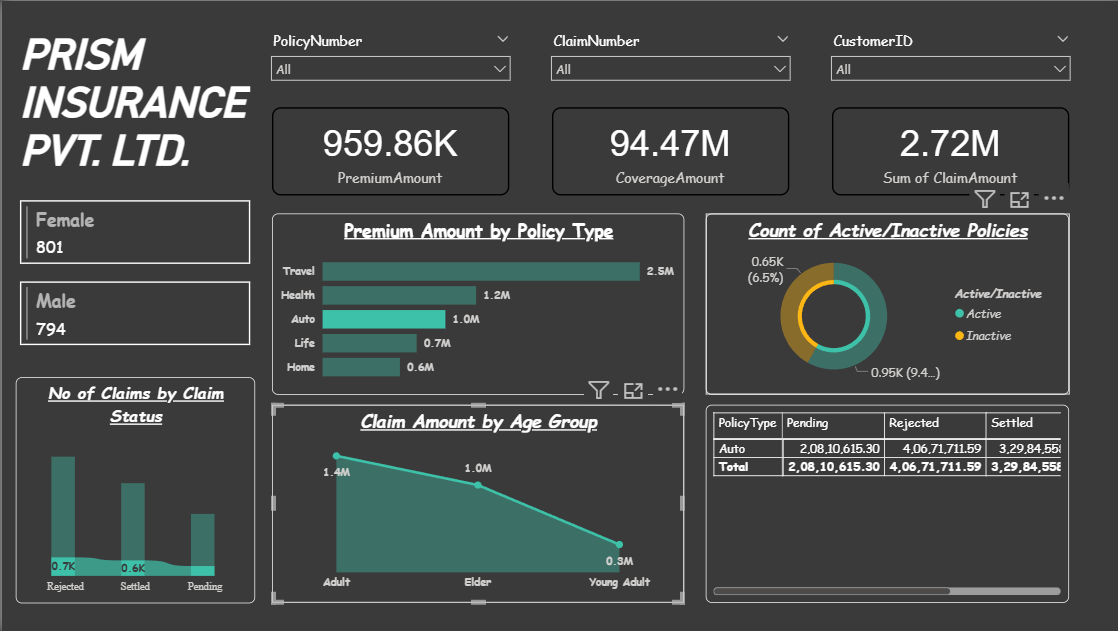

This screenshot's page, from the dashboard's own definition file:
{"tool":"powerbi","page":{"name":"Page 1","canvas":[1280,720],"ordinal":0},"visuals":[{"type":"slicer","fields":{"Values":["InsuranceData.PolicyNumber"]},"box":[296.5,27.9,294.2,82.6],"z":0},{"type":"slicer","fields":{"Values":["InsuranceData.ClaimNumber"]},"box":[617.4,27.9,294.2,82.6],"z":1},{"type":"slicer","fields":{"Values":["InsuranceData.CustomerID"]},"box":[937.2,27.9,294.2,82.6],"z":2},{"type":"textbox","box":[15.1,27.9,273.3,195.3],"z":3},{"type":"card","fields":{"Values":["Sum(InsuranceData.PremiumAmount)"]},"box":[308.1,122.1,270.9,101.2],"z":4},{"type":"card","fields":{"Values":["Sum(InsuranceData.CoverageAmount)"]},"box":[629.1,122.1,270.9,101.2],"z":5},{"type":"card","fields":{"Values":["Sum(InsuranceData.ClaimAmount)"]},"box":[948.8,122.1,270.9,101.2],"z":6},{"type":"multiRowCard","fields":{"Values":["CountNonNull(InsuranceData.Gender)","InsuranceData.Gender"]},"box":[15.1,223.3,273.3,197.7],"z":7},{"type":"ribbonChart","title":"No of Claims by Claim Status","fields":{"Category":["InsuranceData.ClaimStatus"],"Y":["CountNonNull(InsuranceData.ClaimStatus)"]},"box":[15.1,430.2,273.3,258.1],"z":8},{"type":"barChart","title":"Premium Amount by Policy Type","fields":{"Category":["InsuranceData.PolicyType"],"Y":["Sum(InsuranceData.PremiumAmount)"]},"box":[308.1,243,470.9,207],"z":9},{"type":"lineChart","title":"Claim Amount by Age Group","fields":{"Category":["InsuranceData.Age Group"],"Y":["Sum(InsuranceData.ClaimAmount)"]},"box":[308.1,461.6,470.9,226.7],"z":10},{"type":"donutChart","title":"Count of Active/Inactive Policies","fields":{"Category":["InsuranceData.Active/Inactive"],"Y":["CountNonNull(InsuranceData.Active/Inactive)"]},"box":[804.7,243,415.1,207],"z":11},{"type":"pivotTable","fields":{"Values":["Sum(InsuranceData.CoverageAmount)"],"Rows":["InsuranceData.PolicyType"],"Columns":["InsuranceData.ClaimStatus"]},"box":[804.7,461.6,415.1,226.7],"z":12}]}

Visuals, with their boxes in screenshot pixels (x1, y1, x2, y2), scaled from the page's 1280x720 canvas onto the 1118x631 screenshot:
slicer - InsuranceData.PolicyNumber: x1=259, y1=24, x2=516, y2=97
slicer - InsuranceData.ClaimNumber: x1=539, y1=24, x2=796, y2=97
slicer - InsuranceData.CustomerID: x1=819, y1=24, x2=1076, y2=97
textbox: x1=13, y1=24, x2=252, y2=196
card - Sum(InsuranceData.PremiumAmount): x1=269, y1=107, x2=506, y2=196
card - Sum(InsuranceData.CoverageAmount): x1=549, y1=107, x2=786, y2=196
card - Sum(InsuranceData.ClaimAmount): x1=829, y1=107, x2=1065, y2=196
multiRowCard - CountNonNull(InsuranceData.Gender) x InsuranceData.Gender: x1=13, y1=196, x2=252, y2=369
"No of Claims by Claim Status" ribbonChart: x1=13, y1=377, x2=252, y2=603
"Premium Amount by Policy Type" barChart: x1=269, y1=213, x2=680, y2=394
"Claim Amount by Age Group" lineChart: x1=269, y1=405, x2=680, y2=603
"Count of Active/Inactive Policies" donutChart: x1=703, y1=213, x2=1065, y2=394
pivotTable - Sum(InsuranceData.CoverageAmount) x InsuranceData.PolicyType: x1=703, y1=405, x2=1065, y2=603
